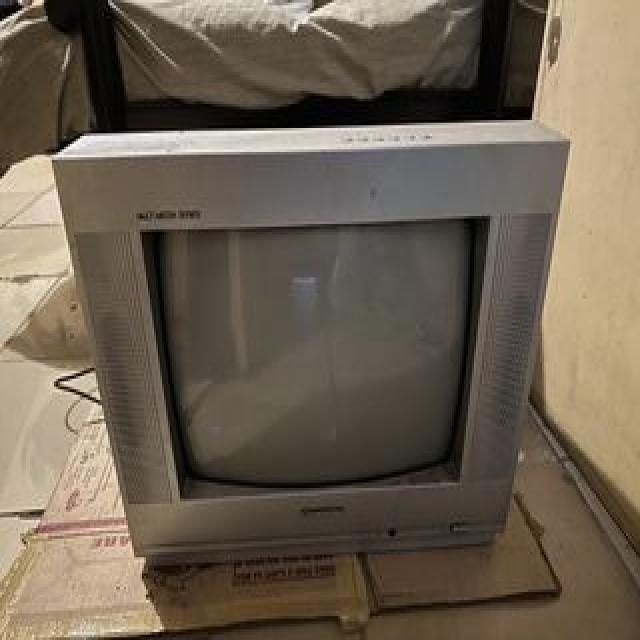electronics: (54, 123, 564, 560), (158, 221, 470, 483)
